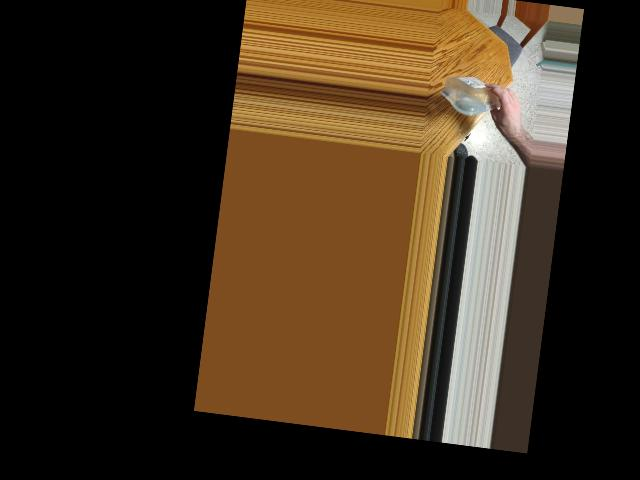cheese: (439, 71, 515, 117)
